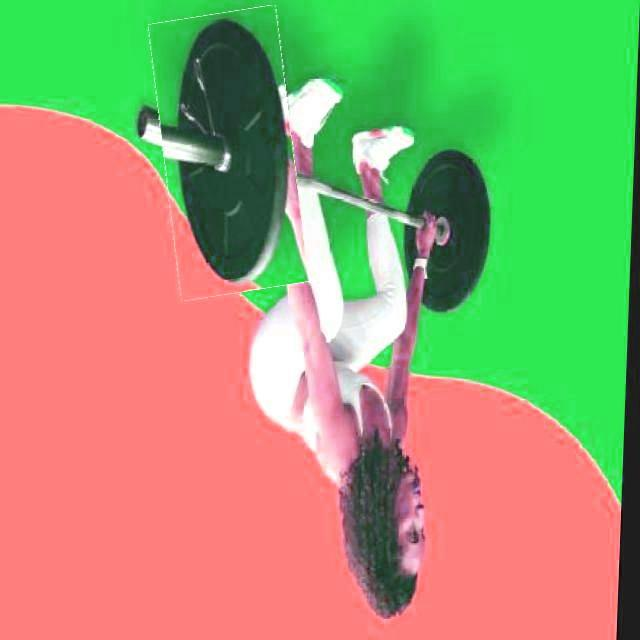barbell: (151, 10, 308, 297)
